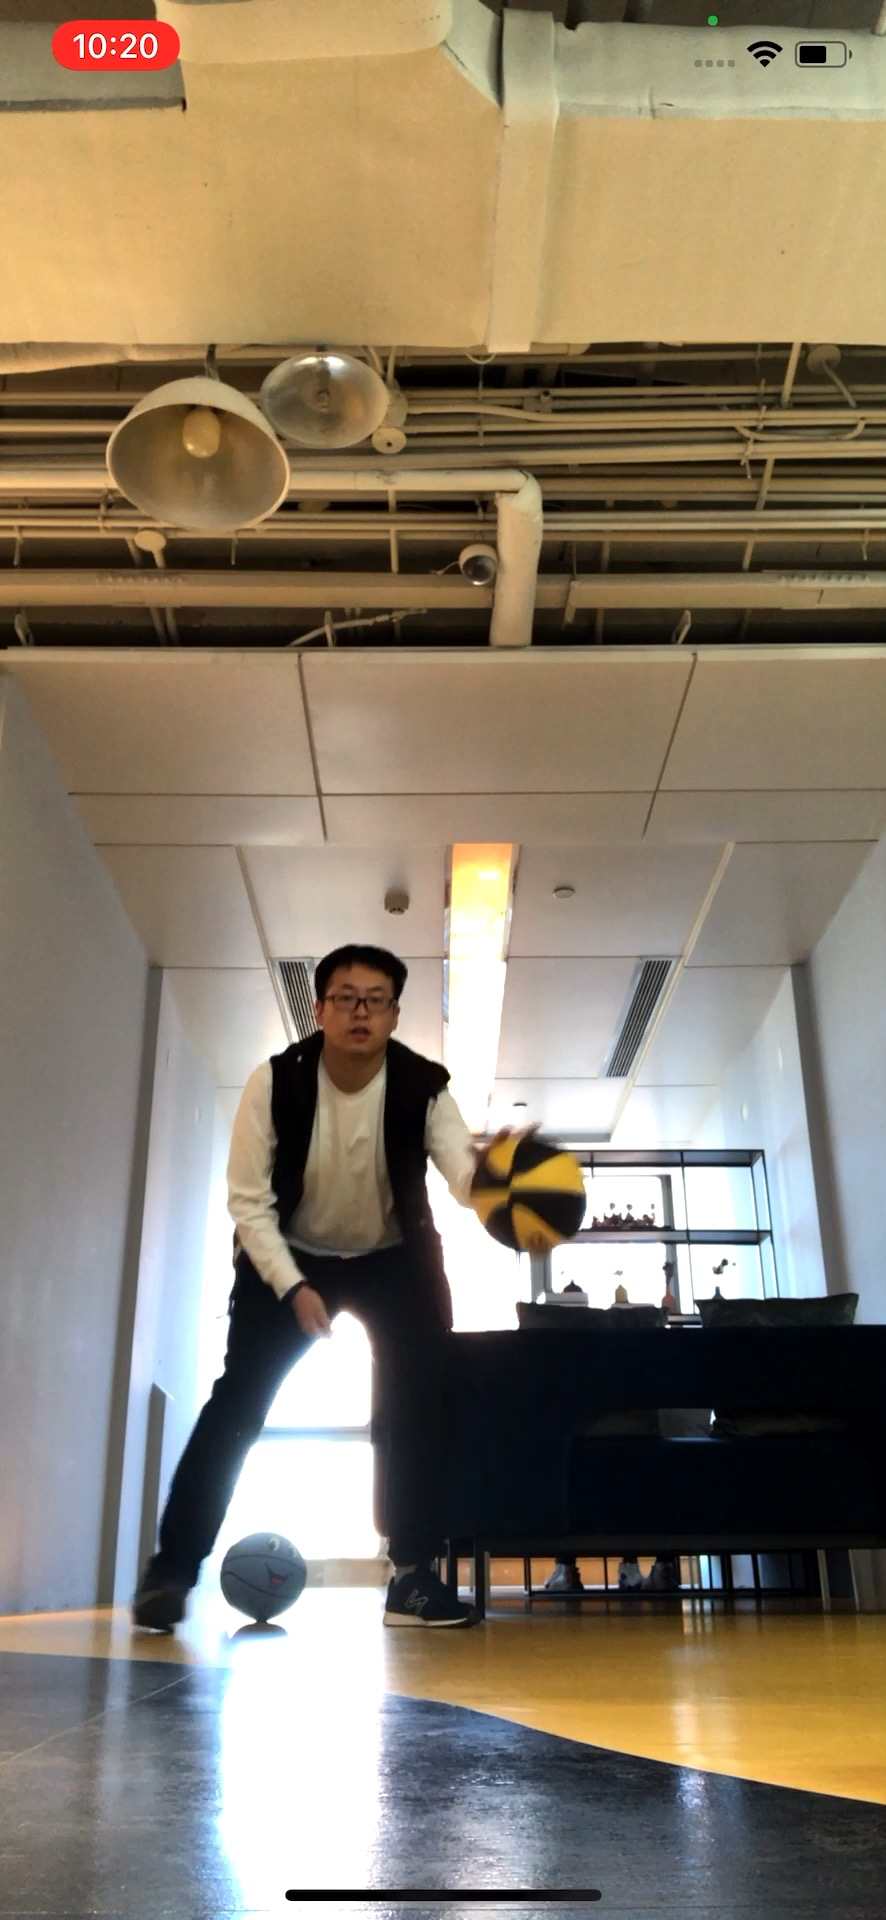ball: (476, 1131, 587, 1258), (218, 1531, 303, 1622)
